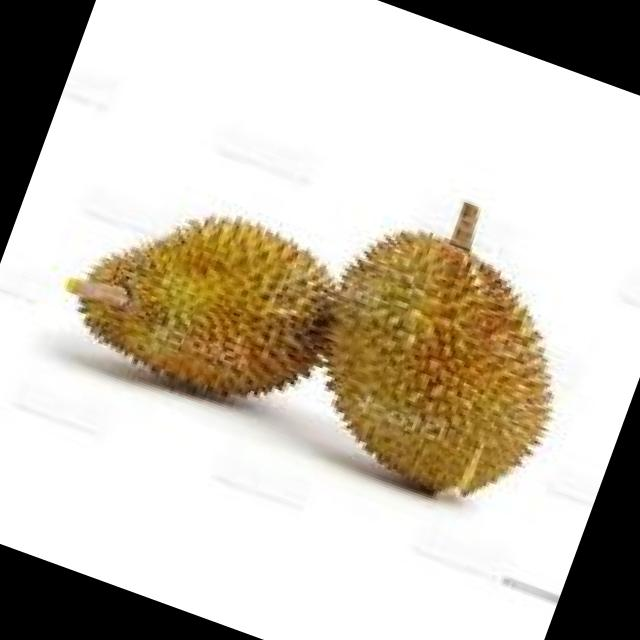fruit: (250, 178, 632, 560), (36, 148, 384, 468)
